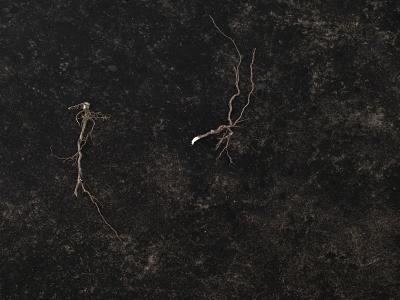Root: (191, 15, 256, 159), (60, 102, 106, 213)
